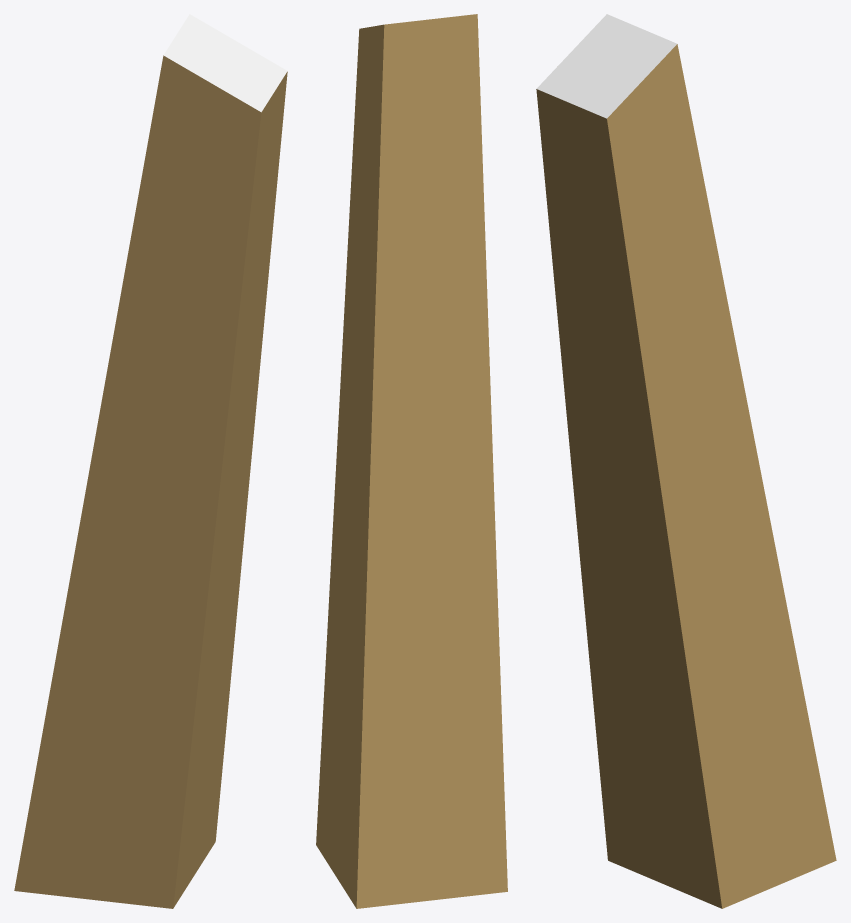
File: Simple_Stump_Snow_03.fbx
The picture shows the model from 3 angles, left to right: view 1: azimuth 30°, elevation 25°; view 2: azimuth 150°, elevation 25°; view 3: azimuth 270°, elevation 25°; orthographic projection. The views are drawn at different scales.
Visible parts, largest first — view 1: Simple_Stump_Snow_03; view 2: Simple_Stump_Snow_03; view 3: Simple_Stump_Snow_03.
Part boxes in pixels (x1,y1,x2,y2): Simple_Stump_Snow_03: (14, 14, 287, 908); Simple_Stump_Snow_03: (316, 14, 507, 908); Simple_Stump_Snow_03: (536, 14, 836, 908).
Bounding box in the file's own units: 23.88 × 91 × 29.41.
